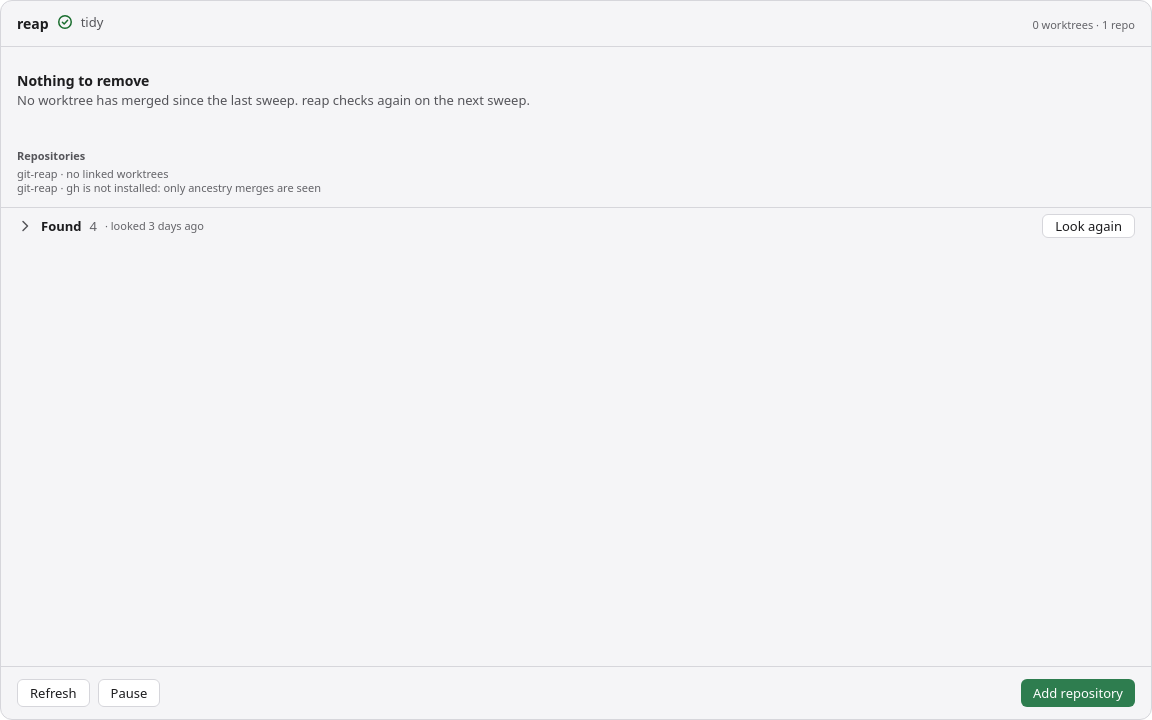
Test: Popover with repos listed › folds back to one line when the popover is shown again
The image size is (1152, 720).
Click the button "Found 4 · looked 3 days ago" at (61, 226), box left=17, top=217, right=1034, bottom=235
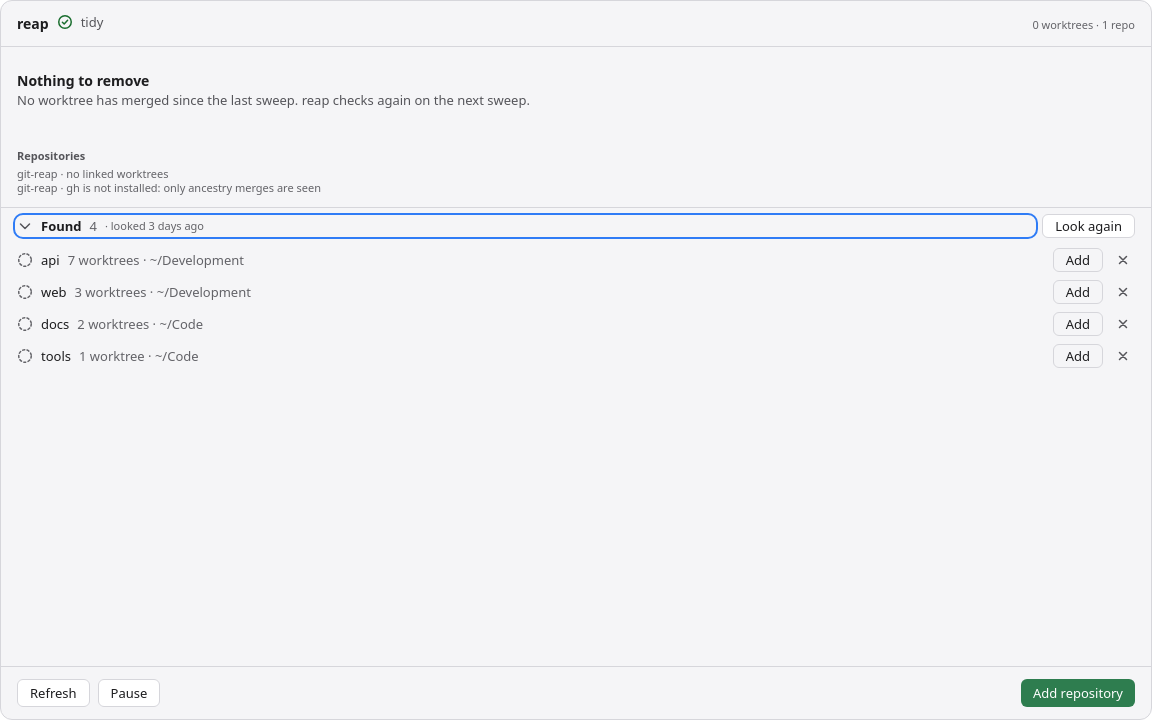
Click the button named "Skip api" at (1123, 260), box left=1111, top=248, right=1135, bottom=272
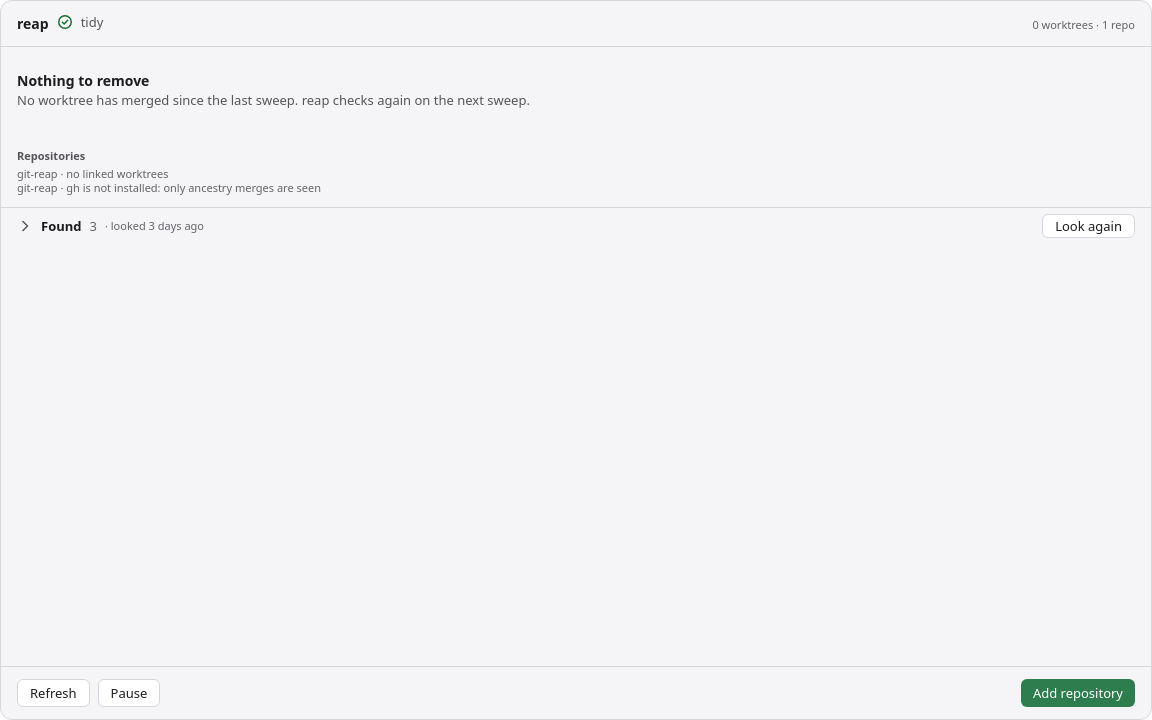
Result: the button "Found 3 · looked 3 days ago" is collapsed at left=17, top=217, right=1034, bottom=235
